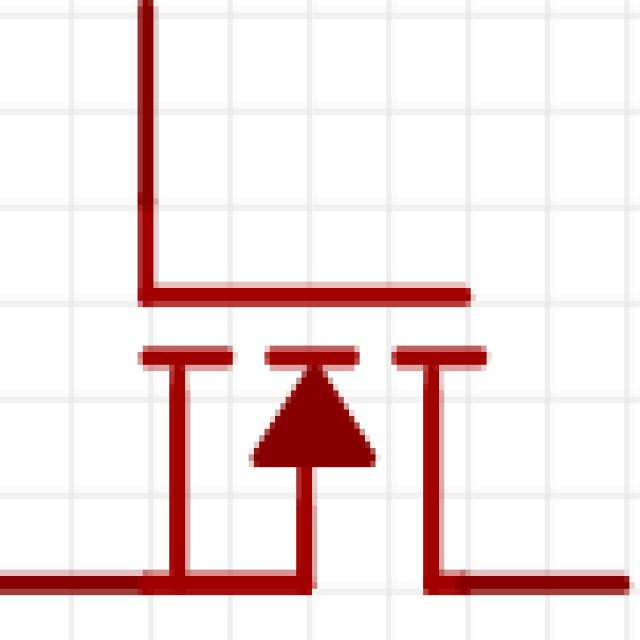nmos: (21, 6, 605, 634)
